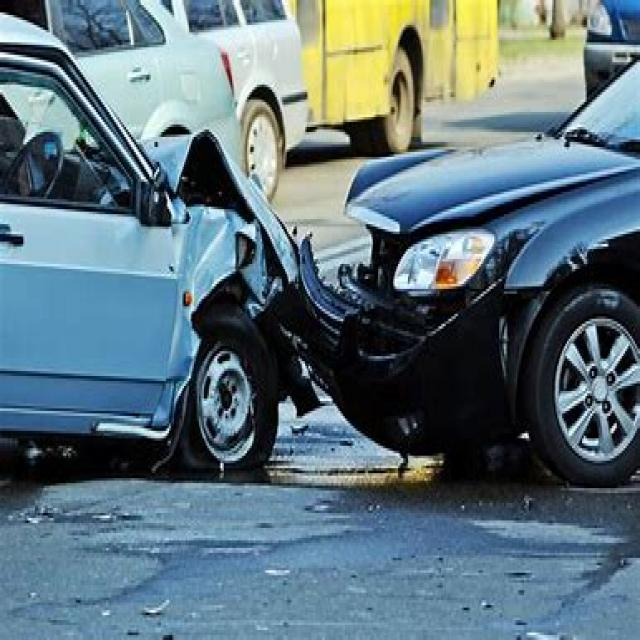Accident: (32, 6, 595, 555)
